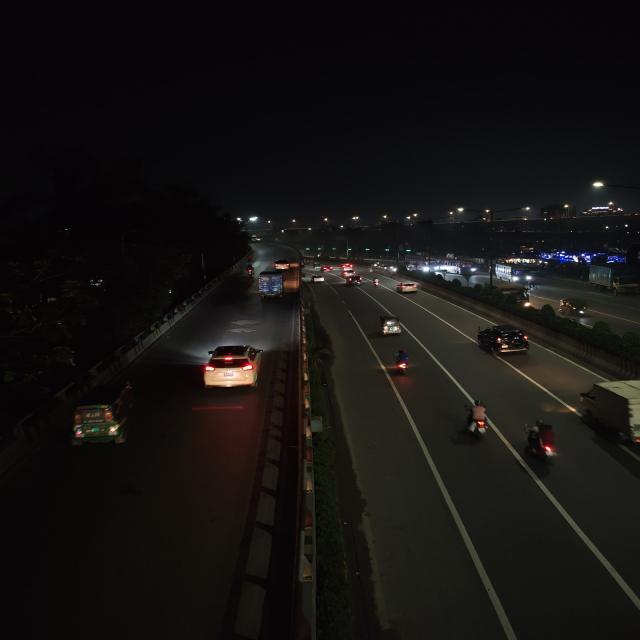bus: (492, 264, 536, 286), (409, 258, 445, 272), (452, 259, 480, 275)
car: (200, 343, 266, 392), (476, 322, 534, 358), (395, 281, 420, 295), (272, 259, 295, 270), (343, 276, 366, 287), (310, 274, 326, 284), (341, 262, 356, 272)
cng: (64, 380, 140, 452), (375, 312, 404, 338), (558, 296, 590, 317)
motorcycle: (520, 418, 563, 470), (460, 399, 496, 441), (385, 347, 419, 379), (243, 264, 256, 278), (370, 276, 382, 288)
truck: (576, 377, 640, 454), (586, 264, 640, 296), (256, 270, 286, 300)
